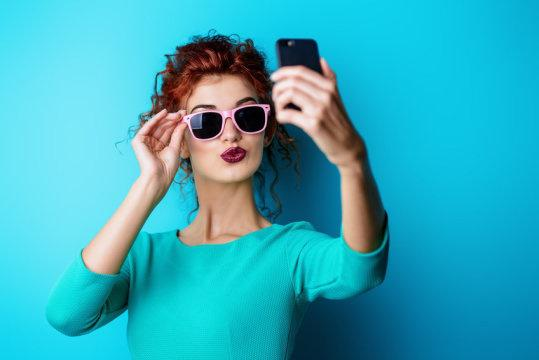face: (184, 74, 263, 184)
